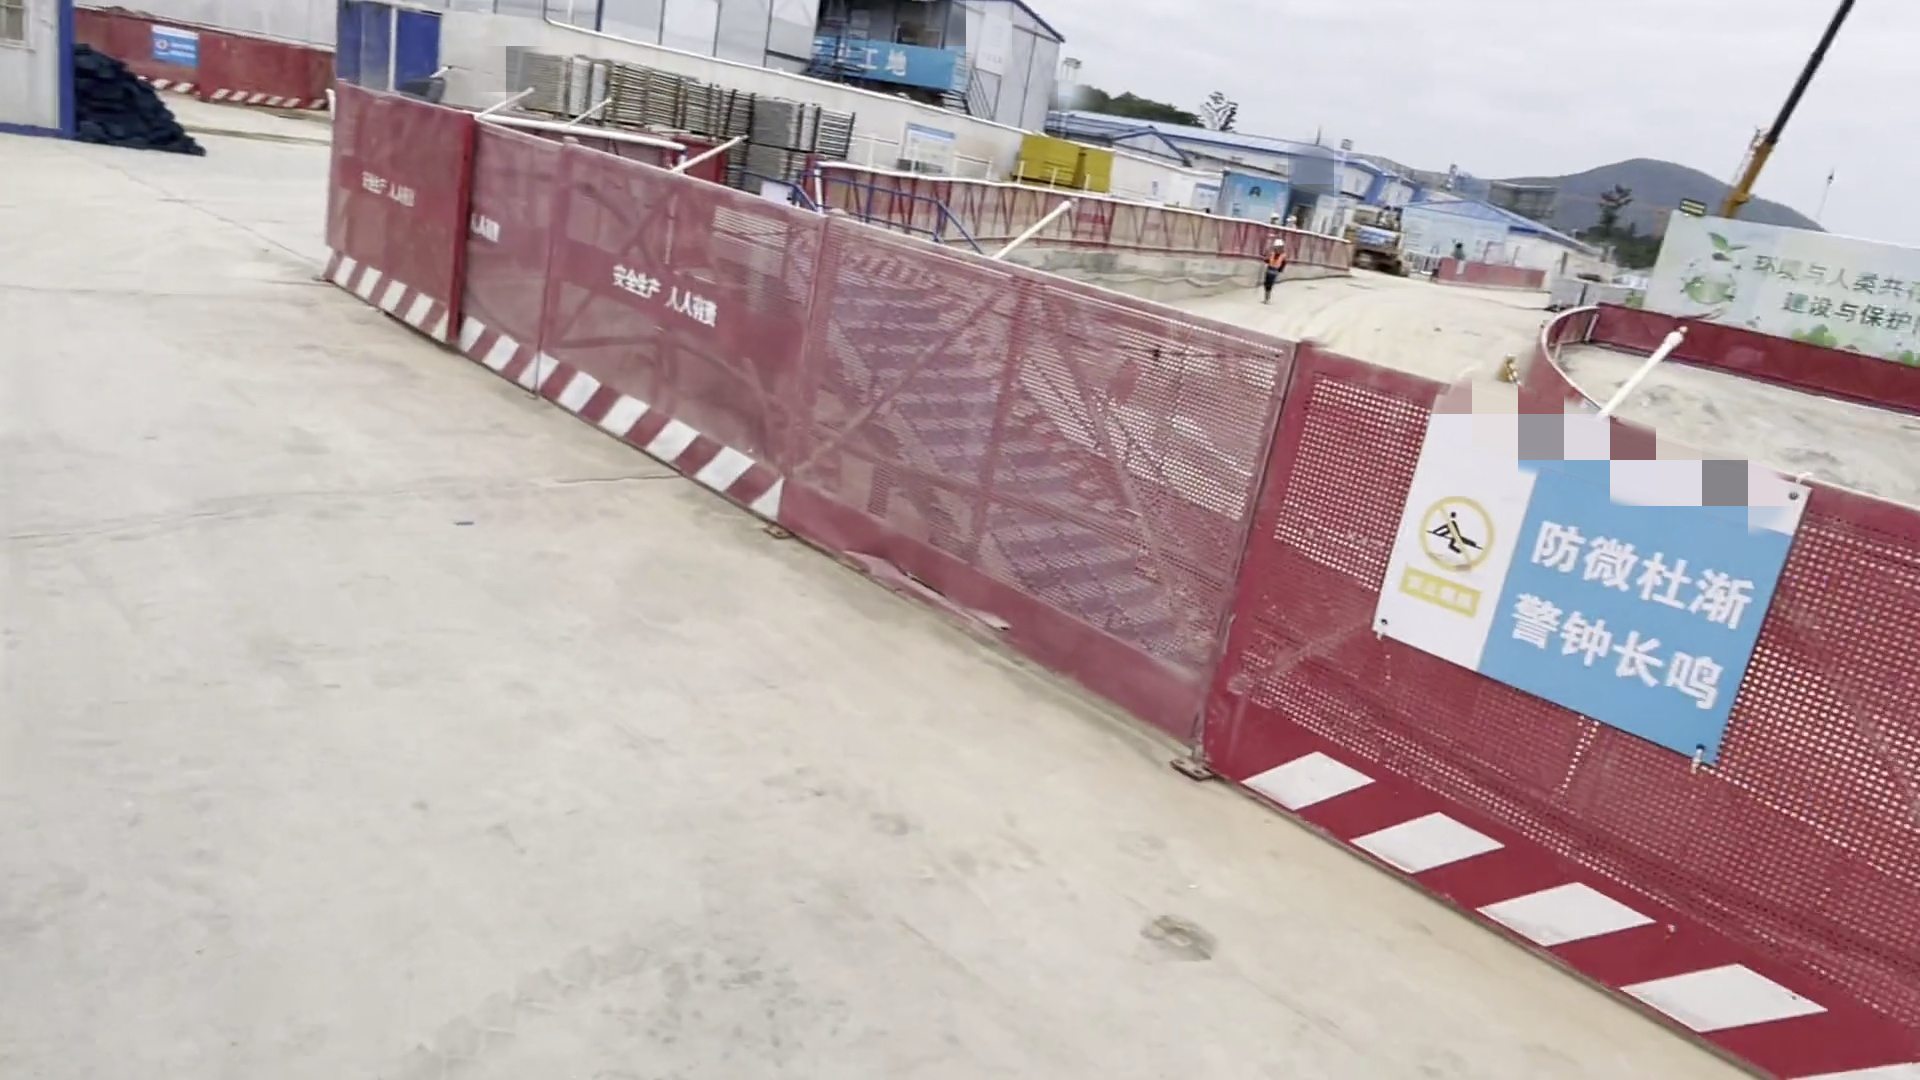fence: (1255, 324, 1920, 1068), (793, 194, 1216, 767), (549, 145, 775, 531), (334, 69, 458, 357), (462, 109, 546, 401), (824, 156, 1062, 239), (1068, 189, 1249, 261)
slogan: (1398, 469, 1742, 683)
